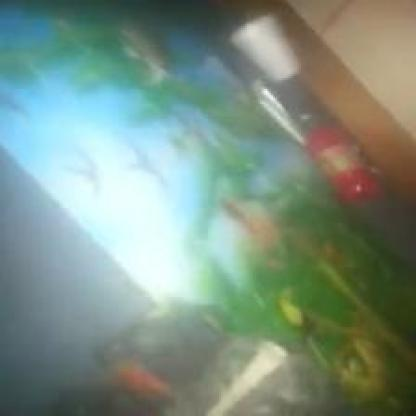other: (44, 125, 201, 298), (305, 115, 361, 200)
